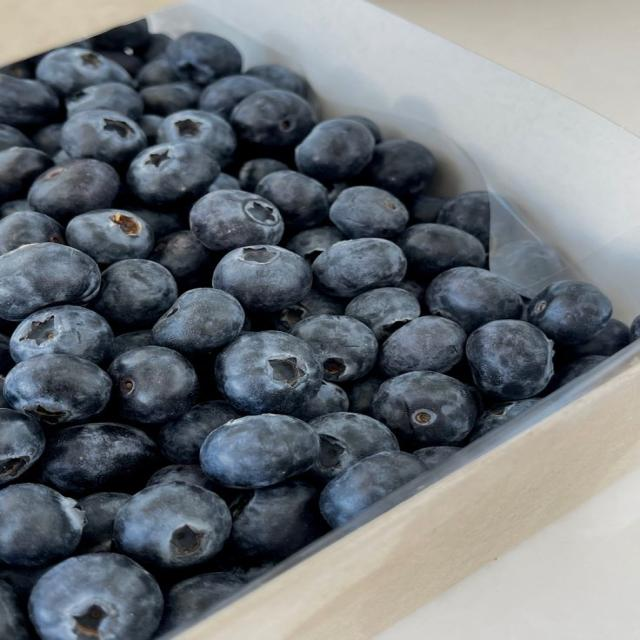blueberry: (29, 553, 162, 639), (114, 481, 231, 568), (200, 414, 319, 488), (216, 331, 322, 414), (42, 423, 157, 495), (320, 451, 426, 527), (230, 480, 327, 561), (374, 372, 476, 448), (0, 243, 99, 320), (4, 353, 111, 424), (109, 346, 198, 424), (0, 484, 84, 566), (467, 320, 553, 399), (213, 245, 312, 311), (426, 267, 522, 333), (153, 288, 245, 356), (310, 412, 399, 482), (11, 306, 113, 364), (94, 259, 177, 330), (127, 143, 219, 206), (292, 315, 378, 382), (190, 190, 284, 251), (28, 159, 119, 220), (314, 238, 406, 298), (528, 281, 612, 344), (380, 316, 466, 377), (158, 401, 239, 464), (295, 119, 375, 182), (160, 572, 244, 632), (231, 90, 315, 149), (67, 209, 153, 266), (396, 224, 486, 277), (62, 109, 146, 165), (36, 48, 132, 95), (158, 110, 236, 166), (491, 241, 567, 296), (329, 186, 408, 238), (363, 140, 435, 197), (256, 171, 328, 228), (166, 32, 241, 84), (345, 288, 420, 340), (149, 230, 213, 290), (147, 462, 238, 502), (0, 409, 45, 486), (199, 75, 273, 119), (469, 398, 539, 442), (437, 191, 490, 249), (0, 74, 59, 126), (274, 289, 344, 332), (79, 493, 130, 552), (557, 319, 629, 359), (0, 147, 53, 201), (0, 211, 65, 254), (67, 83, 144, 119), (293, 381, 348, 421), (127, 206, 186, 242), (287, 227, 346, 263), (0, 565, 48, 608), (246, 64, 308, 97), (140, 82, 199, 116), (147, 464, 216, 491), (92, 19, 150, 50), (552, 355, 606, 388), (0, 580, 29, 639), (239, 158, 289, 192), (346, 375, 384, 416), (18, 122, 63, 156), (136, 57, 179, 88), (409, 190, 446, 223), (99, 50, 144, 76), (342, 115, 381, 144), (114, 330, 152, 358), (414, 447, 461, 469), (137, 34, 172, 61), (0, 124, 33, 151), (137, 114, 163, 145), (397, 279, 426, 302), (0, 199, 33, 219), (0, 335, 14, 382), (208, 172, 239, 192), (0, 60, 33, 78), (328, 183, 349, 206), (0, 375, 10, 408), (54, 149, 72, 165), (629, 316, 639, 341)
